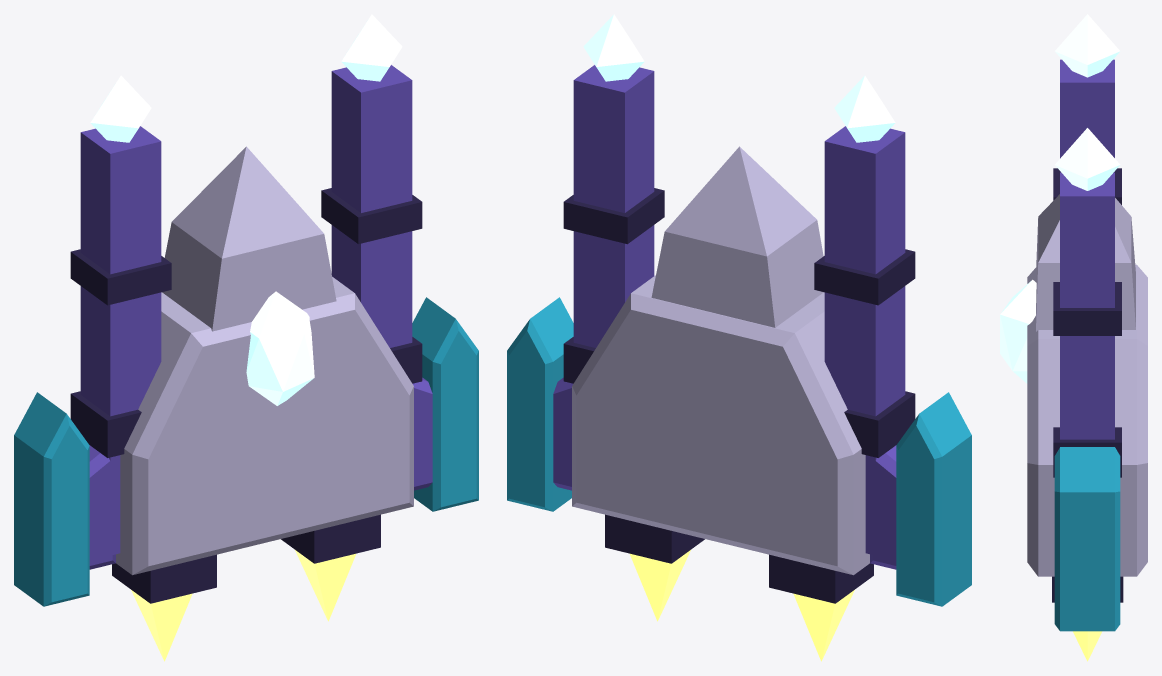
Rendered from lancer.glb.
3 views of the same model, side by side, from view 1: azimuth 30°, elevation 25°; view 2: azimuth 150°, elevation 25°; view 3: azimuth 270°, elevation 25° (orthographic). The views are drawn at different scales.
Parts seen in each view (by area): view 1: hull, tip_L, tip_R, cockpit, wing_L, muzzle_R, muzzle_L, wing_R, flame_L, flame_R; view 2: hull, tip_L, tip_R, wing_L, muzzle_R, muzzle_L, wing_R, flame_L, flame_R; view 3: hull, tip_R, cockpit, muzzle_L, muzzle_R, flame_R.
Boxes of the visible parts, left/top/right/bottom form: hull: left=70, top=65, right=422, bottom=603; tip_L: left=14, top=392, right=89, bottom=606; tip_R: left=412, top=297, right=478, bottom=511; cockpit: left=246, top=291, right=314, bottom=405; wing_L: left=89, top=445, right=115, bottom=569; muzzle_R: left=341, top=14, right=402, bottom=81; muzzle_L: left=90, top=75, right=151, bottom=142; wing_R: left=413, top=377, right=432, bottom=490; flame_L: left=131, top=590, right=192, bottom=661; flame_R: left=295, top=550, right=355, bottom=621; hull: left=563, top=65, right=915, bottom=603; tip_L: left=896, top=392, right=971, bottom=606; tip_R: left=507, top=297, right=573, bottom=511; wing_L: left=870, top=445, right=896, bottom=569; muzzle_R: left=583, top=14, right=644, bottom=81; muzzle_L: left=834, top=75, right=895, bottom=142; wing_R: left=553, top=377, right=572, bottom=490; flame_L: left=793, top=590, right=854, bottom=661; flame_R: left=630, top=550, right=690, bottom=621; hull: left=1027, top=59, right=1147, bottom=602; tip_R: left=1054, top=447, right=1120, bottom=631; cockpit: left=1000, top=279, right=1036, bottom=383; muzzle_L: left=1055, top=14, right=1120, bottom=77; muzzle_R: left=1055, top=128, right=1120, bottom=190; flame_R: left=1073, top=631, right=1102, bottom=661.
Size of the model in its own units: 17 by 22.3 by 5.39.
